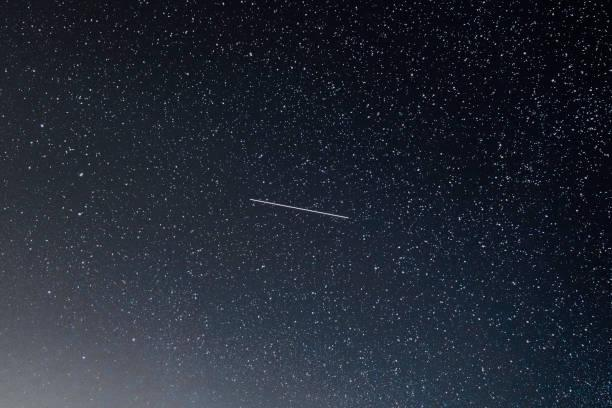meteor: (341, 211, 358, 224)
